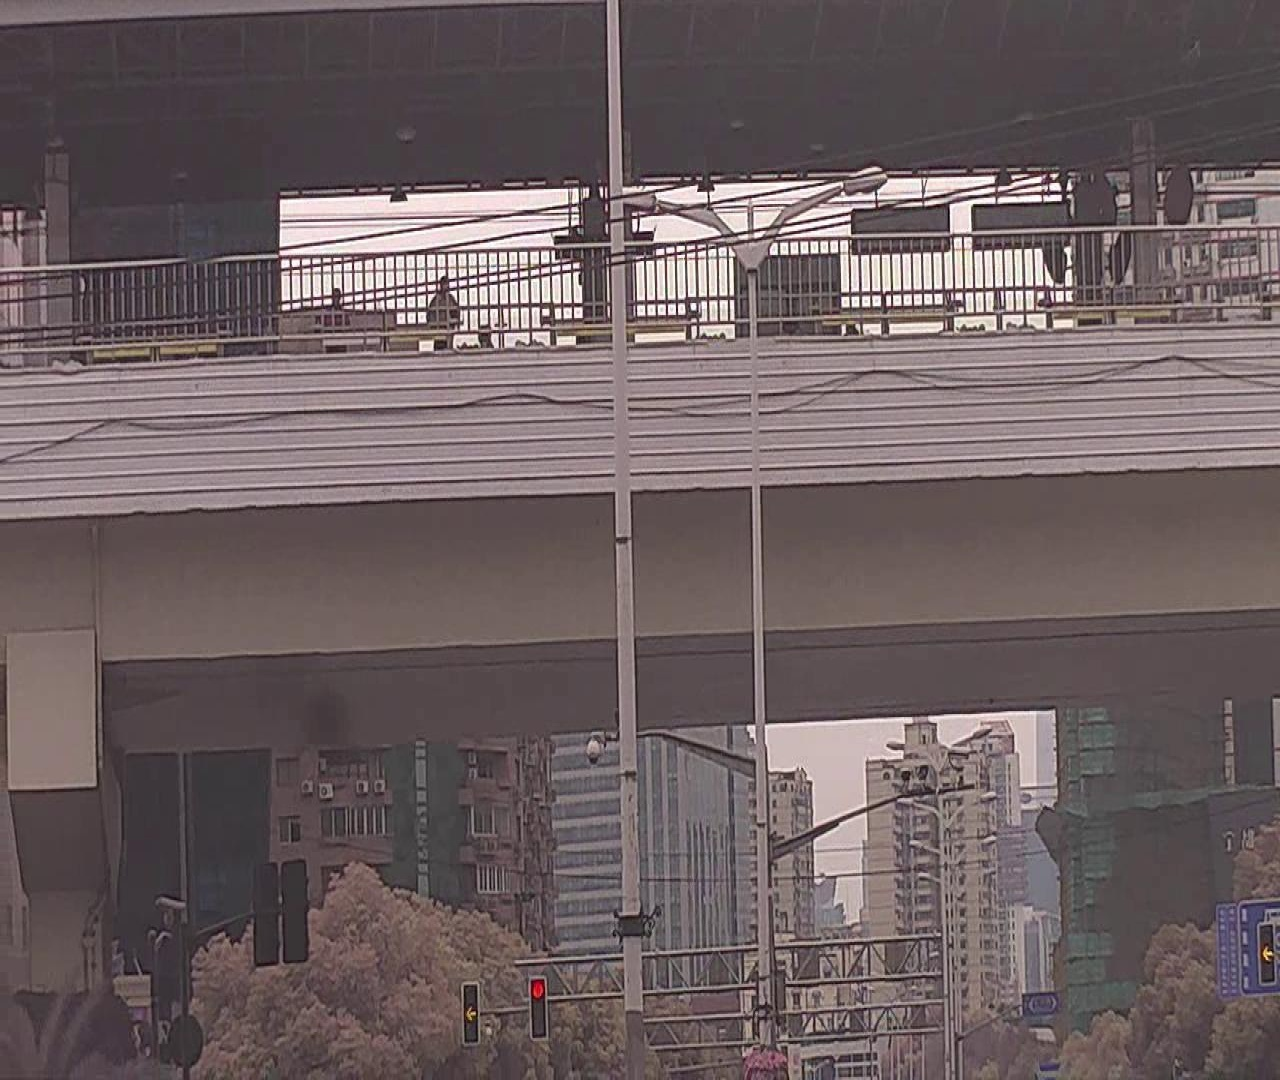red: (530, 976, 551, 1041), (1259, 924, 1274, 984)
yellow: (464, 978, 479, 1047)
